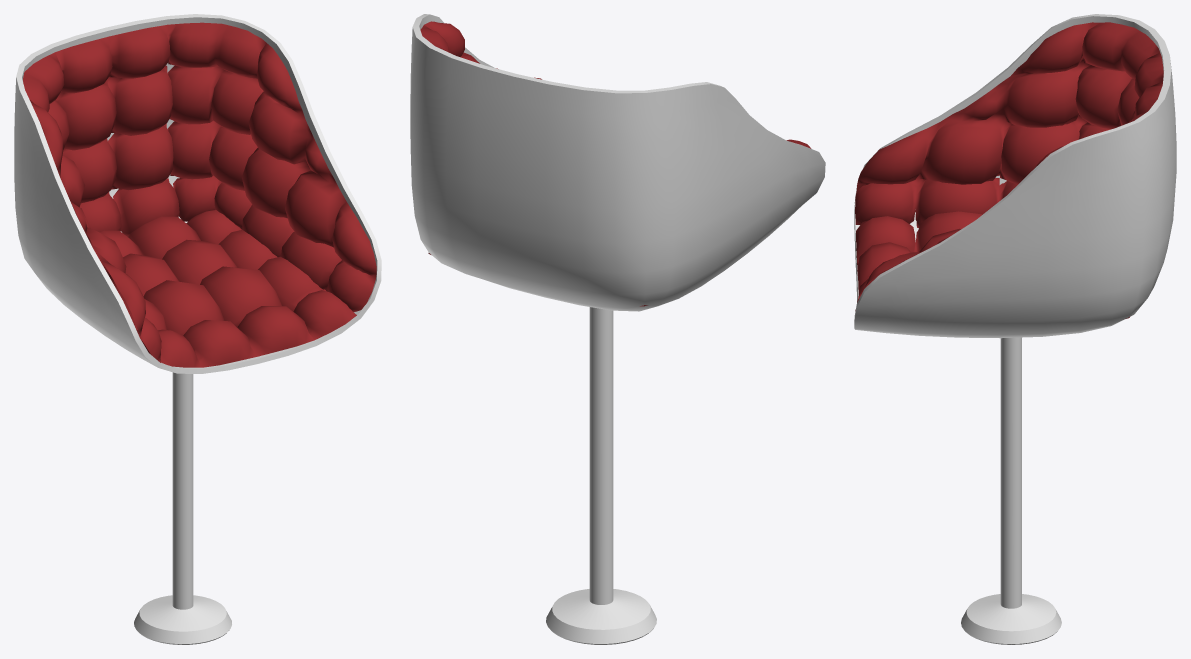
File: chair.fbx
The picture shows the model from 3 angles, left to right: view 1: azimuth 30°, elevation 25°; view 2: azimuth 150°, elevation 25°; view 3: azimuth 270°, elevation 25°; orthographic projection. The views are drawn at different scales.
Visible parts, largest first — view 1: Cube.001, Cube, Circle; view 2: Cube, Circle, Cube.001; view 3: Cube, Cube.001, Circle.
Boxes of the visible parts, bbox=[...] form: Cube.001: bbox=[23, 22, 376, 367]; Cube: bbox=[14, 14, 381, 373]; Circle: bbox=[134, 372, 231, 644]; Cube: bbox=[410, 14, 825, 311]; Circle: bbox=[546, 307, 656, 644]; Cube.001: bbox=[420, 21, 811, 306]; Cube: bbox=[854, 14, 1176, 338]; Cube.001: bbox=[855, 22, 1163, 318]; Circle: bbox=[961, 337, 1061, 644].
Size of the model in its own units: 283 by 563 by 297.
